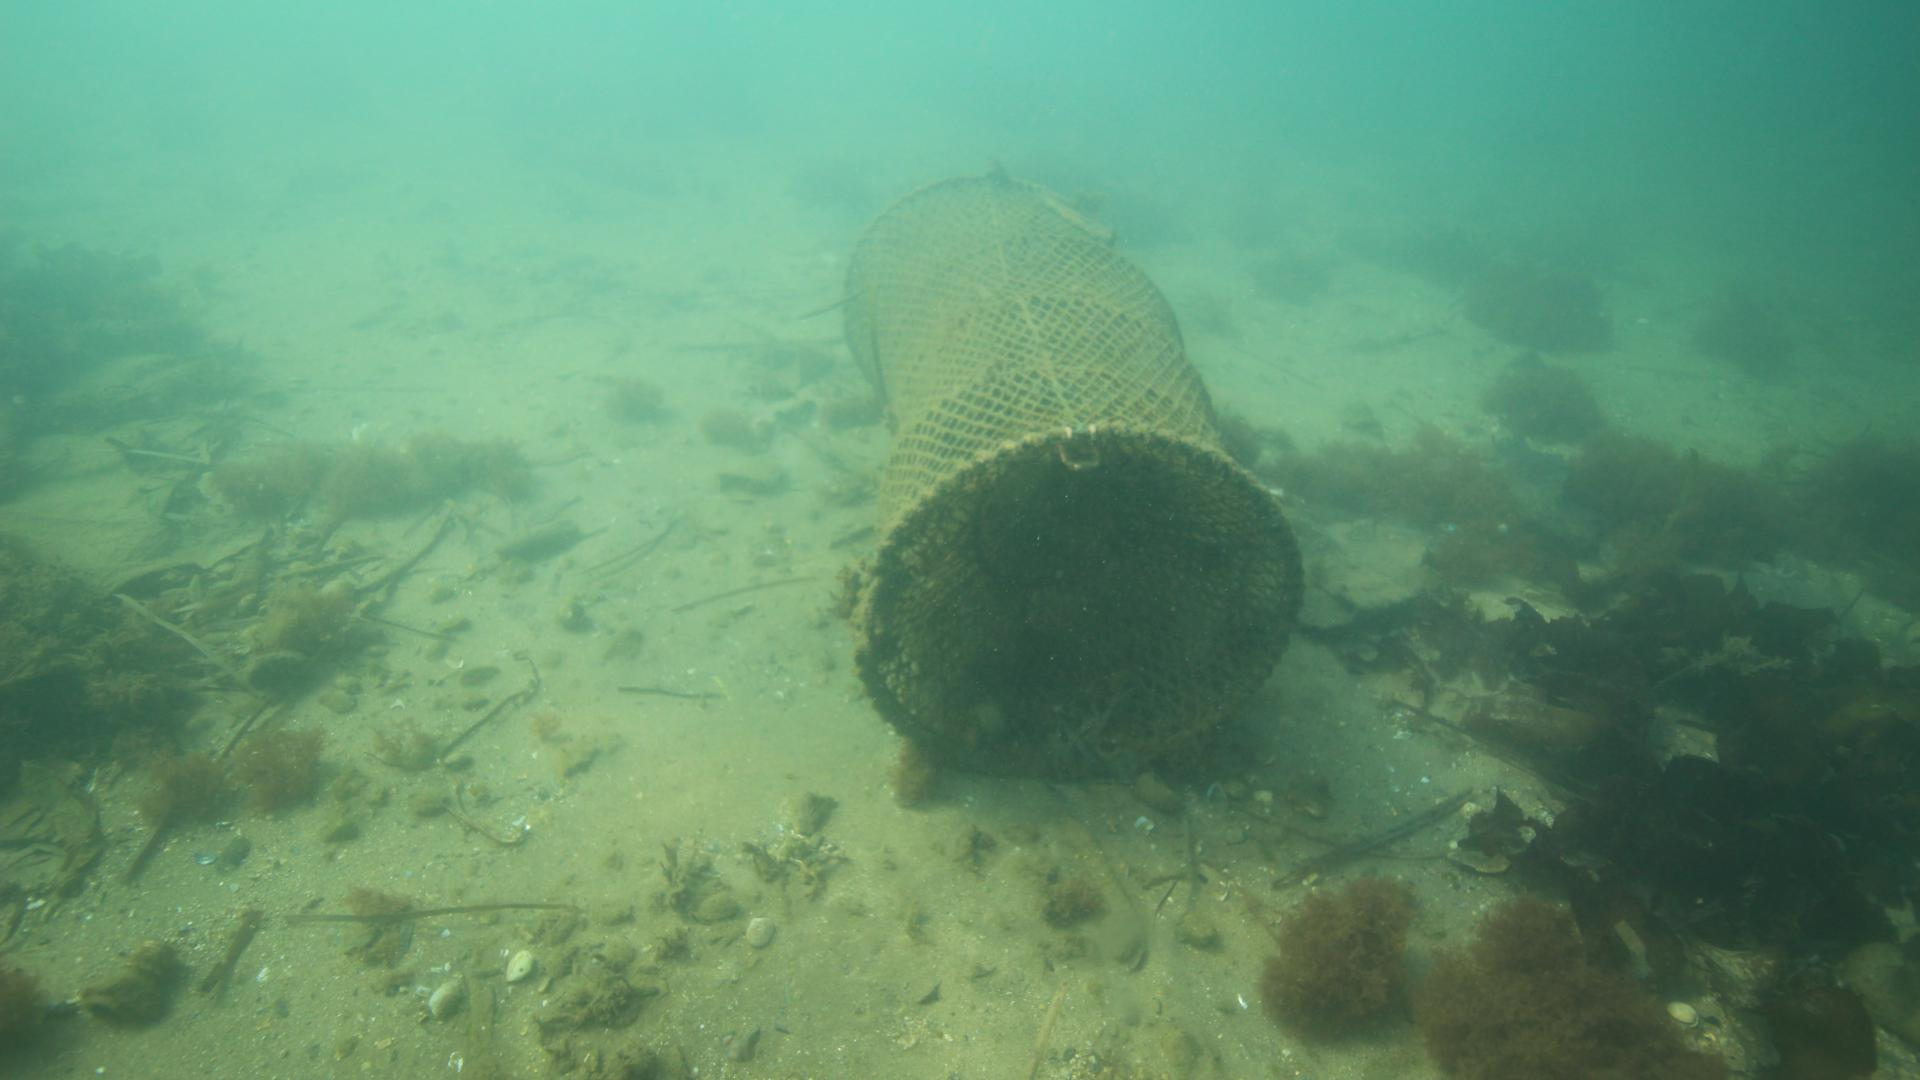spring fish trap: (833, 164, 1304, 782)
